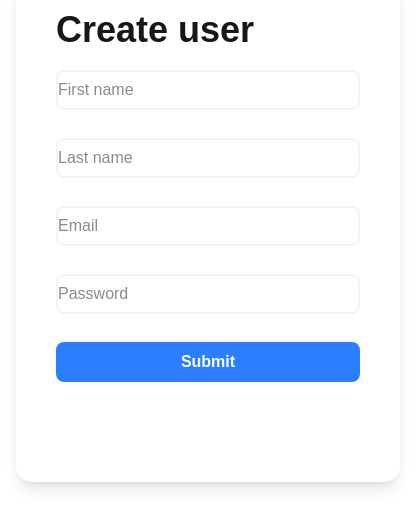
Test: Create user component › shows validation errors when fields are empty
Step 1. Click the button "Submit" → (208, 362), box [56, 342, 360, 382]
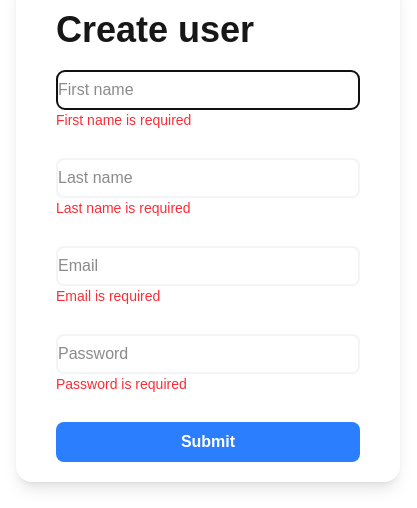
Now the text "First name is required" is shown, box [56, 112, 191, 128]
Now the text "Last name is required" is shown, box [56, 200, 191, 216]
Now the text "Email is required" is shown, box [56, 288, 160, 304]
